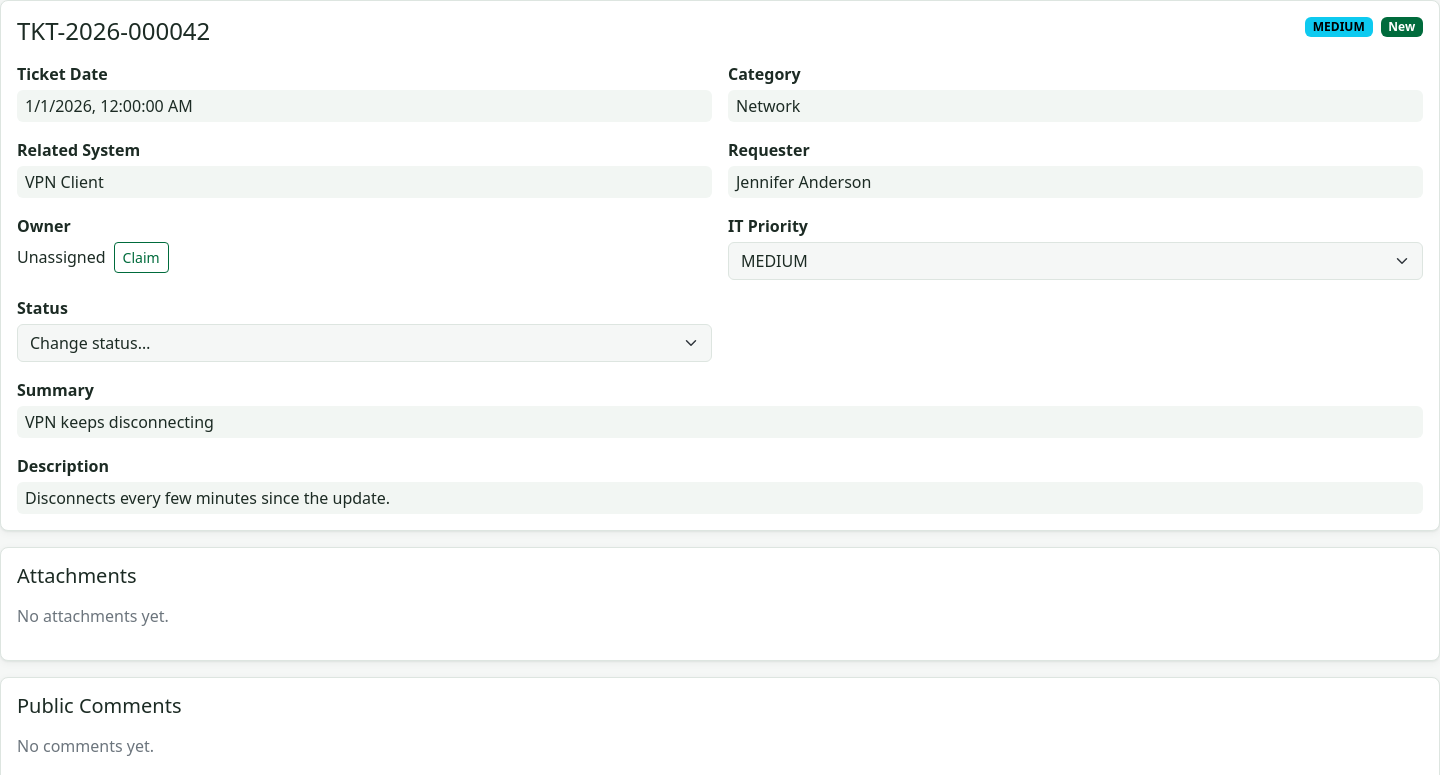
it: StaffTicketDetail › claims an unassigned ticket for the caller, shows a success message, and switches to the Reassign dropdown (FR-10, AC-06)
This screenshot has width=1440, height=775.
Expected: the heading "TKT-2026-000042" is shown, 17,17 -> 210,46
Click the button "Claim" at (141, 257), box 114,242 -> 169,273
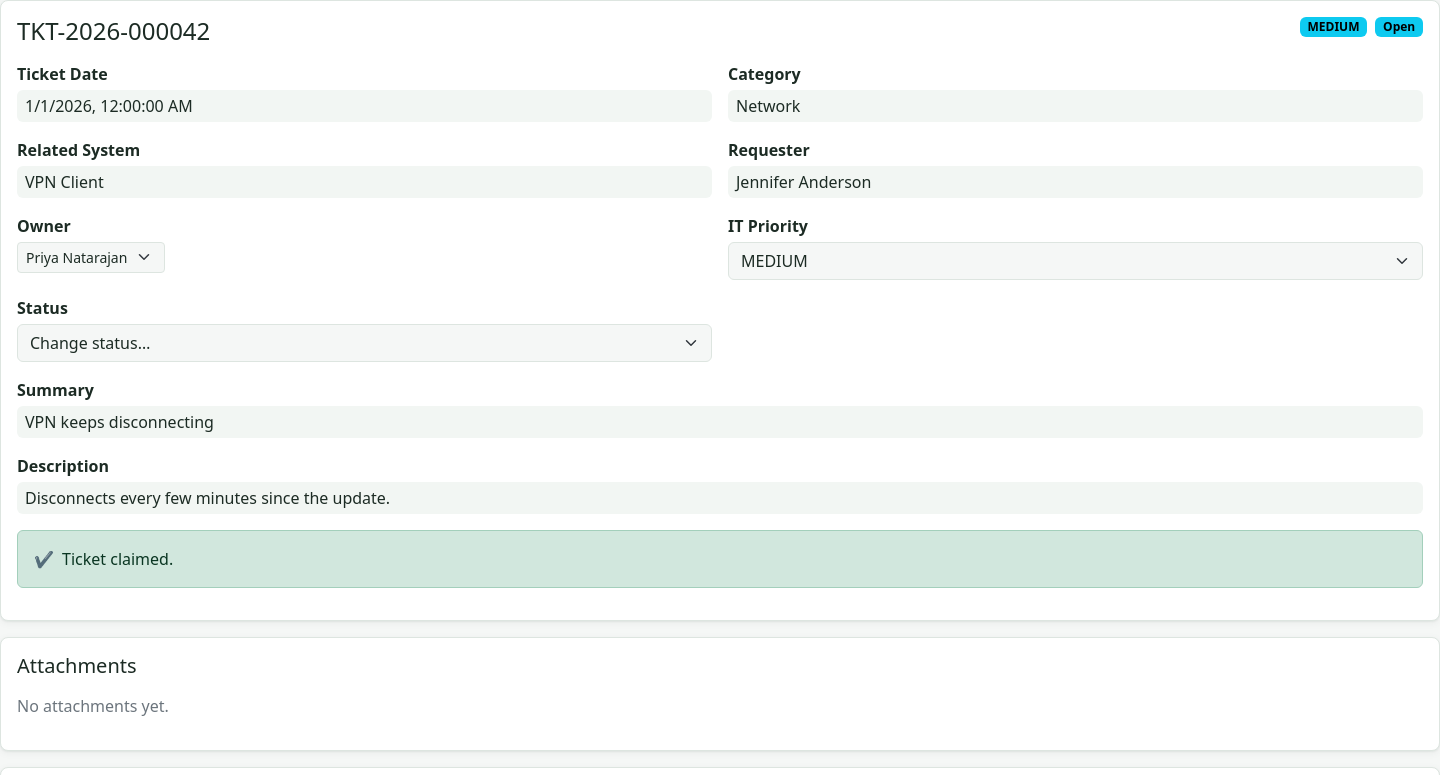
Result: the text "Ticket claimed." is shown at 62,547 -> 173,571
Result: the dropdown named "reassign to" shows "Priya Natarajan" at 17,242 -> 165,273
